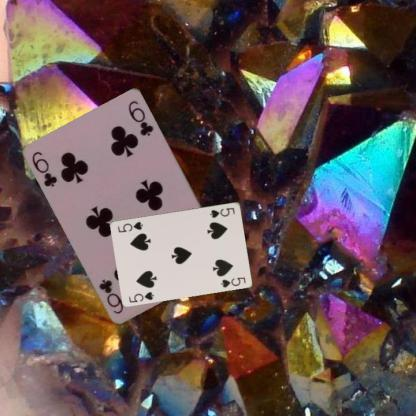5s: (127, 289, 156, 303), (208, 205, 236, 219)
6c: (29, 148, 59, 189)
